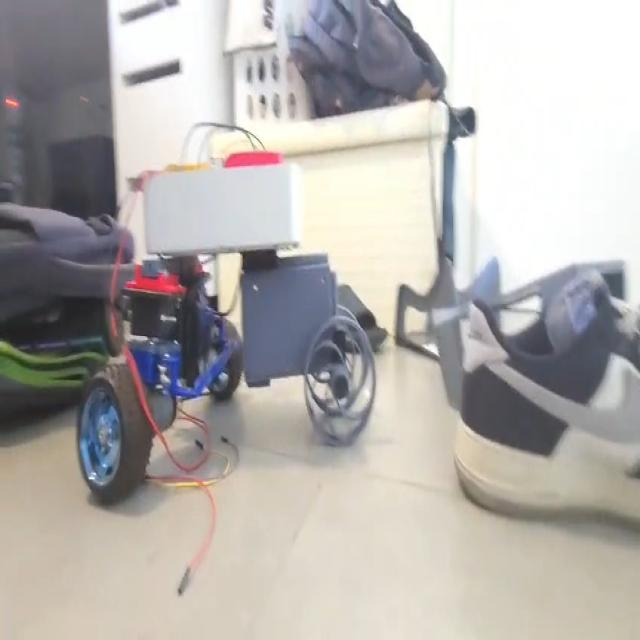Robot: (77, 150, 376, 503)
